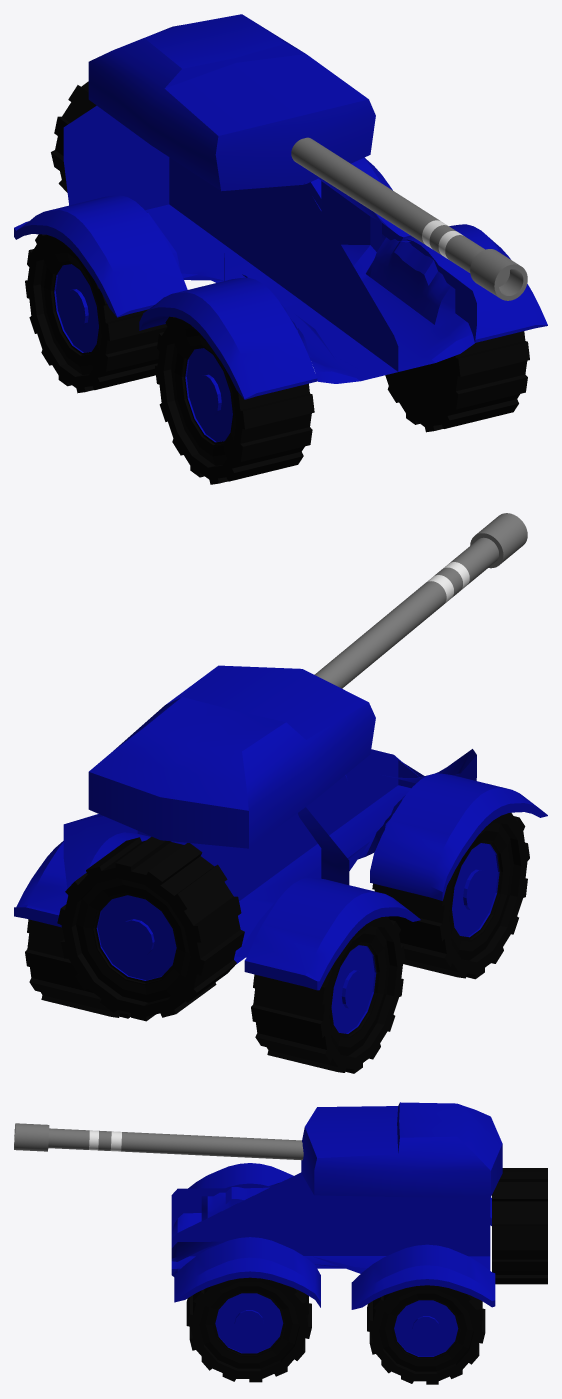
File: tank1.fbx
3 views of the same model, one above another, from view 1: azimuth 30°, elevation 25°; view 2: azimuth 150°, elevation 25°; view 3: azimuth 270°, elevation 25° (orthographic). The views are drawn at different scales.
Parts seen in each view (by area): view 1: body, weapon, front_right wheel, back_right wheel, front_left wheel, wheel5; view 2: weapon, body, wheel5, back_right wheel, front_right wheel, back_left wheel; view 3: body, weapon, front_left wheel, back_left wheel, wheel5.
Part boxes in pixels (x1=…): body: x1=14, y1=105, x2=547, y2=399; weapon: x1=88, y1=14, x2=527, y2=300; front_right wheel: x1=155, y1=316, x2=314, y2=484; back_right wheel: x1=25, y1=234, x2=167, y2=393; front_left wheel: x1=385, y1=331, x2=529, y2=432; wheel5: x1=51, y1=81, x2=96, y2=192; weapon: x1=88, y1=513, x2=527, y2=848; body: x1=14, y1=749, x2=547, y2=990; wheel5: x1=57, y1=836, x2=244, y2=1021; back_right wheel: x1=251, y1=916, x2=405, y2=1073; front_right wheel: x1=372, y1=812, x2=529, y2=979; back_left wheel: x1=25, y1=919, x2=130, y2=1018; body: x1=171, y1=1163, x2=495, y2=1309; weapon: x1=14, y1=1102, x2=502, y2=1197; front_left wheel: x1=186, y1=1277, x2=311, y2=1382; back_left wheel: x1=367, y1=1285, x2=485, y2=1384; wheel5: x1=492, y1=1168, x2=547, y2=1284.
Bounding box in the file's own units: 1001 × 971 × 2194.
